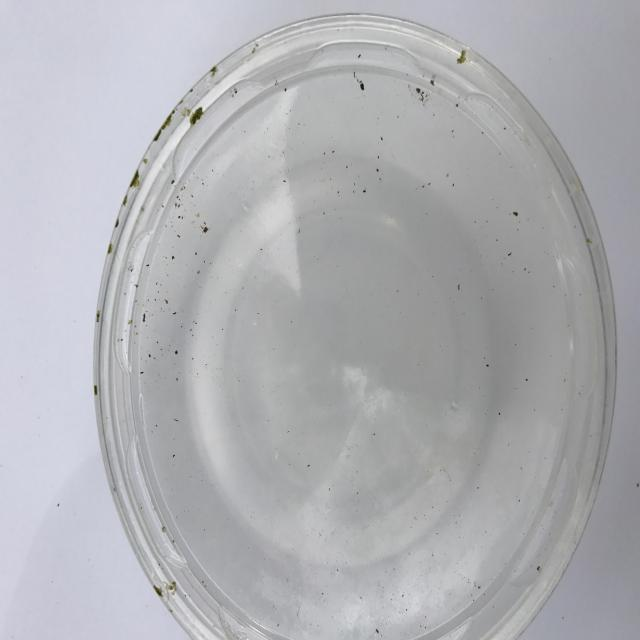plastic: (92, 12, 618, 640)
